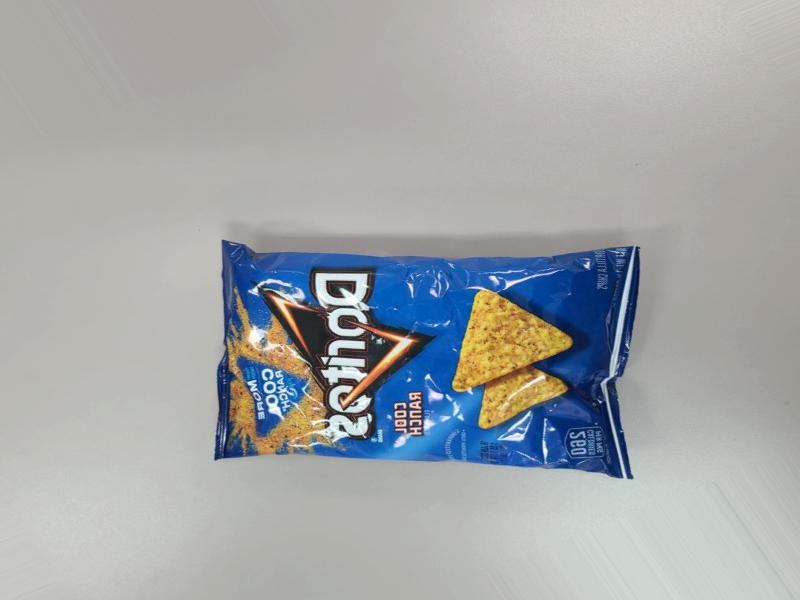doritos: (180, 250, 658, 499)
